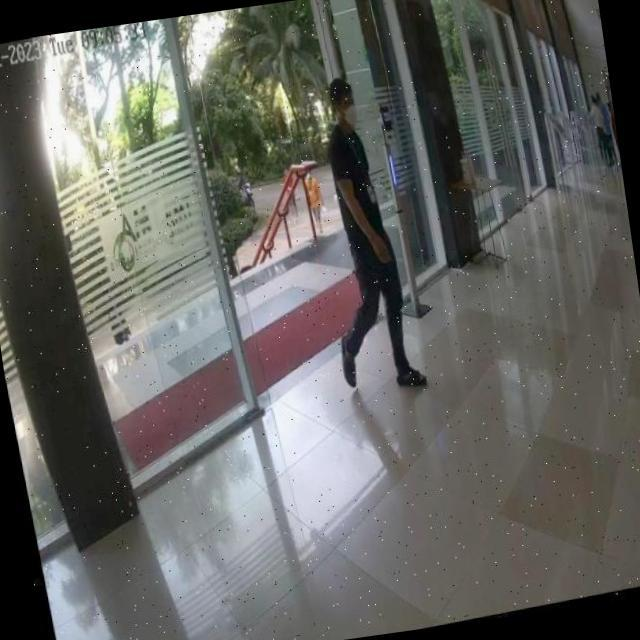person: (289, 66, 427, 392)
